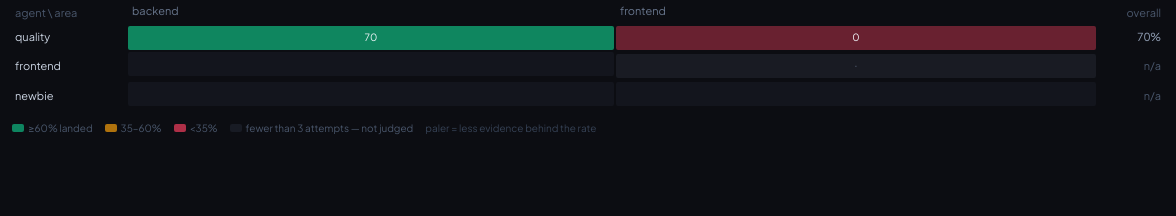
Test: CompetenceHeatmap › drills into a cell and back out
Click the button "70". click: (371, 38)
box: [128, 26, 614, 50]
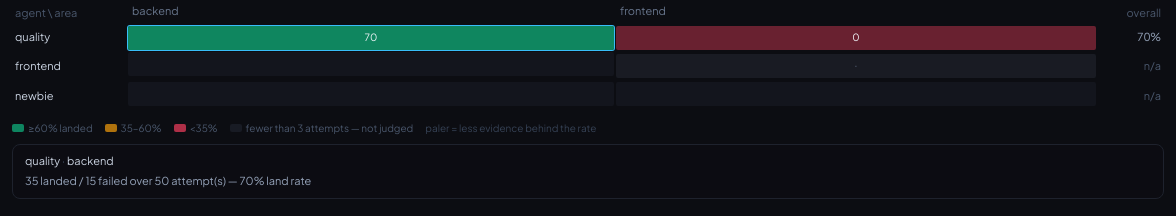
Now the text "35 landed / 15 failed over 50 attempt(s) — 70% land rate" is shown, box [25, 174, 311, 187]
Click the button "70". click: (371, 38)
box: [128, 26, 614, 50]
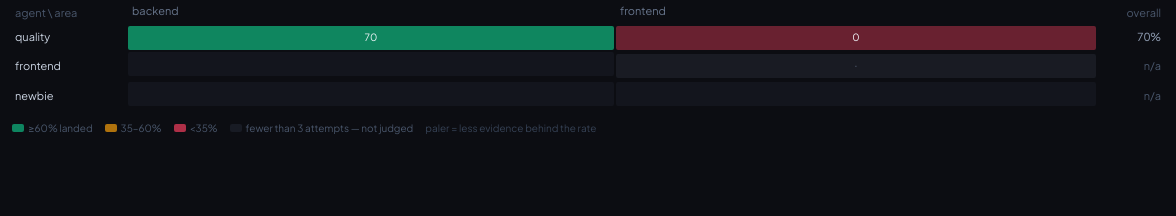
Now the text "35 landed" is gone
